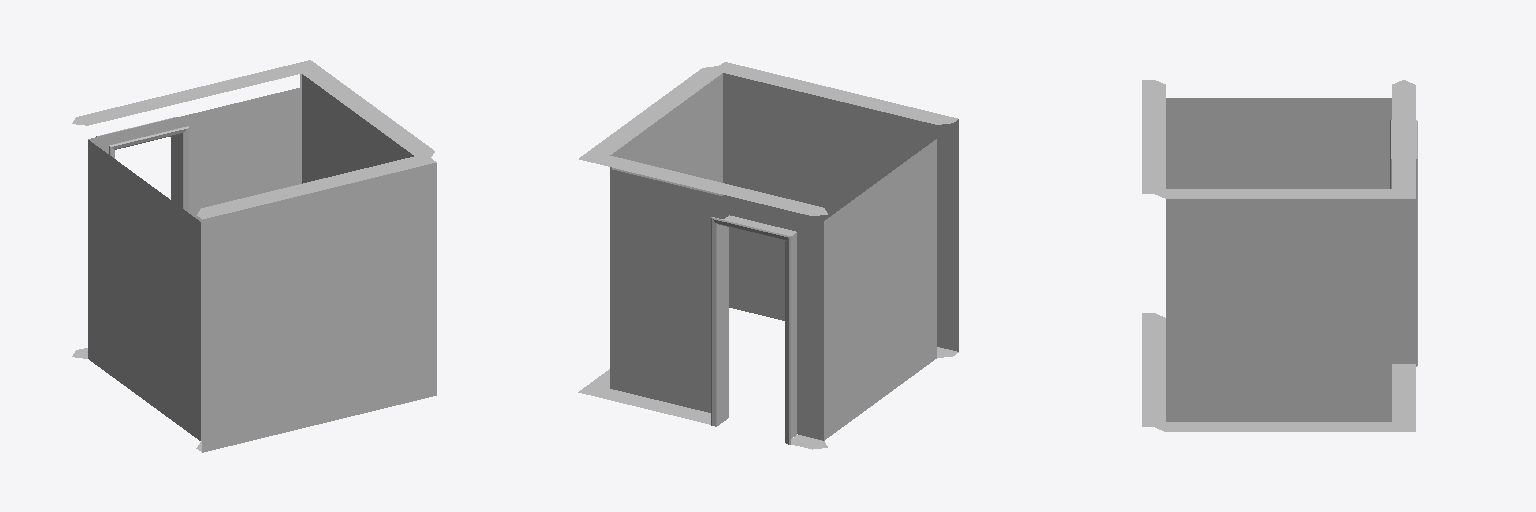
Rendered from MasterBathroom-5190w.obj.
3 views of the same model, side by side, from view 1: azimuth 30°, elevation 25°; view 2: azimuth 150°, elevation 25°; view 3: azimuth 270°, elevation 25° (orthographic).
Size of the model in its own units: 2.86 by 2.6 by 2.78.